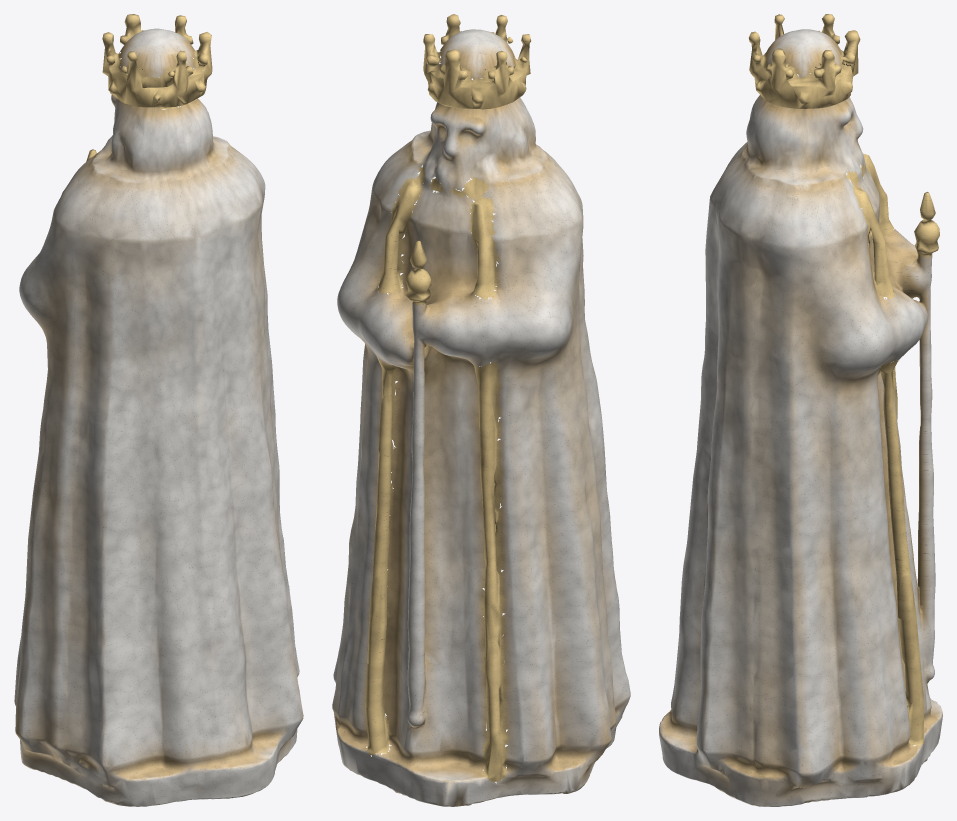
File: king-white-hd.glb
3 views of the same model, side by side, from view 1: azimuth 30°, elevation 25°; view 2: azimuth 150°, elevation 25°; view 3: azimuth 270°, elevation 25° (orthographic).
Visible parts, largest first — view 1: Argent Reliquary – White King; view 2: Argent Reliquary – White King; view 3: Argent Reliquary – White King.
Boxes of the visible parts, x1,y1,x2,y2 form: Argent Reliquary – White King: [14, 14, 303, 806]; Argent Reliquary – White King: [332, 14, 630, 806]; Argent Reliquary – White King: [659, 14, 942, 806].
Size of the model in its own units: 0.6626 by 1.65 by 0.5885.
2 materials, 2 textured.
